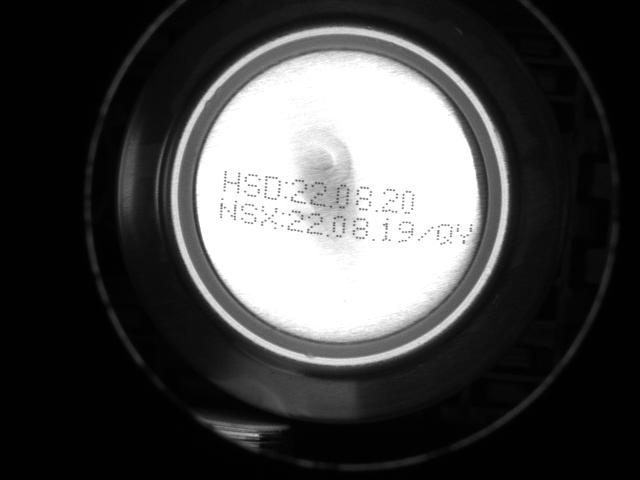.: (328, 194, 334, 209), (324, 222, 330, 237), (372, 199, 378, 214), (369, 227, 375, 242)
/: (416, 223, 434, 246)
0: (335, 182, 350, 210), (331, 212, 346, 240), (400, 187, 415, 215)
1: (381, 216, 392, 243)
2: (290, 177, 309, 206), (309, 180, 328, 209), (285, 205, 304, 234), (305, 210, 324, 239), (380, 186, 399, 215)
8: (355, 184, 372, 211), (351, 216, 368, 243)
9: (396, 218, 414, 244)
:: (282, 179, 290, 199), (278, 207, 286, 227)
D: (263, 173, 281, 202)
H: (221, 168, 241, 194)
N: (218, 195, 238, 223)
Q: (435, 221, 453, 248)
S: (243, 171, 262, 199), (239, 199, 258, 227)
X: (259, 203, 279, 231)
Y: (455, 220, 475, 248)
